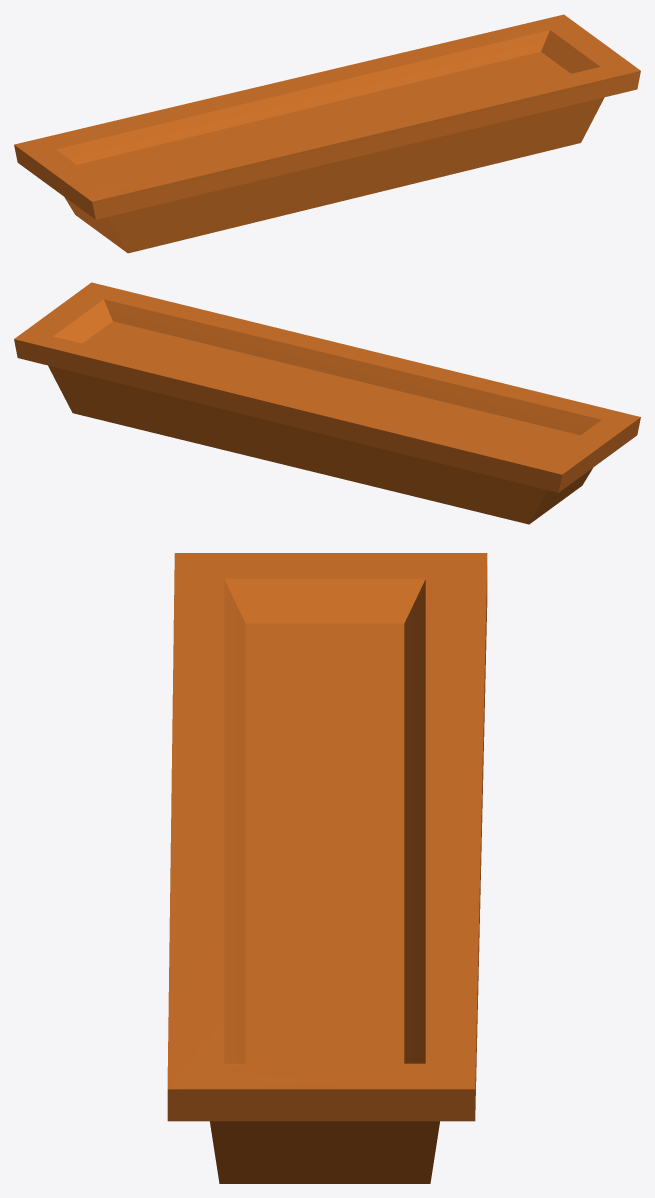
The model's file is Gutter.fbx.
3 views of the same model, one above another, from view 1: azimuth 30°, elevation 25°; view 2: azimuth 150°, elevation 25°; view 3: azimuth 270°, elevation 25° (orthographic). The views are drawn at different scales.
Parts seen in each view (by area): view 1: polySurface114; view 2: polySurface114; view 3: polySurface114.
Part boxes in pixels (x1=…): polySurface114: x1=14, y1=14, x2=640, y2=253; polySurface114: x1=14, y1=282, x2=640, y2=524; polySurface114: x1=167, y1=553, x2=487, y2=1183.
Size of the model in its own units: 8.59 by 1.07 by 2.18.
